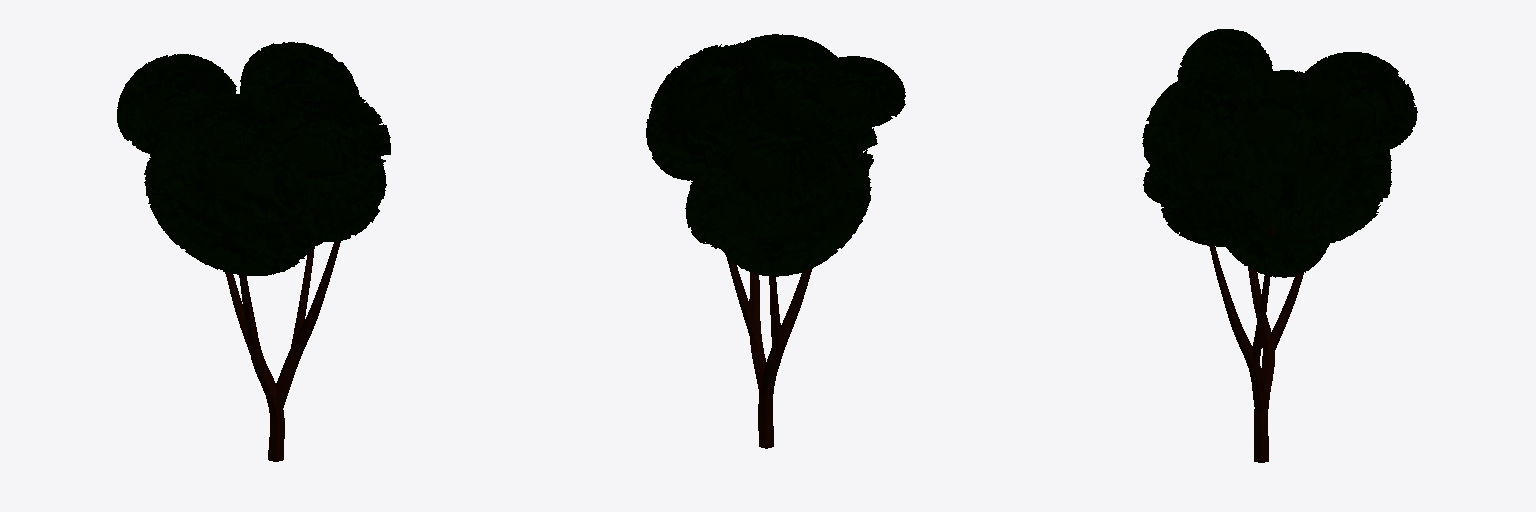
File: arvere.obj
3 renders of one model, left to right at view 1: azimuth 30°, elevation 25°; view 2: azimuth 150°, elevation 25°; view 3: azimuth 270°, elevation 25°, orthographic.
Visible parts, largest first — view 1: Plane.008, Plane.010, Plane.003, Plane.004, Plane.006, tree, Plane.001, Plane.005, Plane.007; view 2: Plane.001, Plane.003, Plane.010, Plane.006, Plane.004, tree, Plane.008, Plane.009; view 3: Plane.001, Plane.008, Plane.003, tree, Plane.005, Plane.009, Plane.006, Plane.004, Plane.010, Plane.007.
Boxes of the visible parts, x1,y1,x2,y2 form: Plane.008: [255, 81, 390, 191]; Plane.010: [144, 155, 315, 275]; Plane.003: [117, 54, 240, 155]; Plane.004: [151, 140, 309, 223]; Plane.006: [173, 94, 274, 171]; tree: [225, 241, 340, 461]; Plane.001: [240, 42, 359, 102]; Plane.005: [302, 185, 385, 241]; Plane.007: [308, 154, 386, 212]; Plane.001: [646, 44, 775, 180]; Plane.003: [707, 107, 833, 212]; Plane.010: [713, 176, 871, 276]; Plane.006: [796, 56, 905, 129]; Plane.004: [706, 107, 877, 239]; tree: [727, 257, 812, 448]; Plane.008: [737, 34, 837, 108]; Plane.009: [685, 171, 720, 248]; Plane.001: [1228, 70, 1346, 229]; Plane.008: [1142, 70, 1250, 192]; Plane.003: [1305, 52, 1417, 156]; tree: [1209, 150, 1303, 462]; Plane.005: [1161, 178, 1259, 246]; Plane.009: [1225, 208, 1332, 277]; Plane.006: [1177, 29, 1273, 80]; Plane.004: [1330, 143, 1391, 211]; Plane.010: [1329, 165, 1391, 244]; Plane.007: [1143, 158, 1205, 208].
Size of the model in its own units: 34.52 by 62.07 by 39.09.